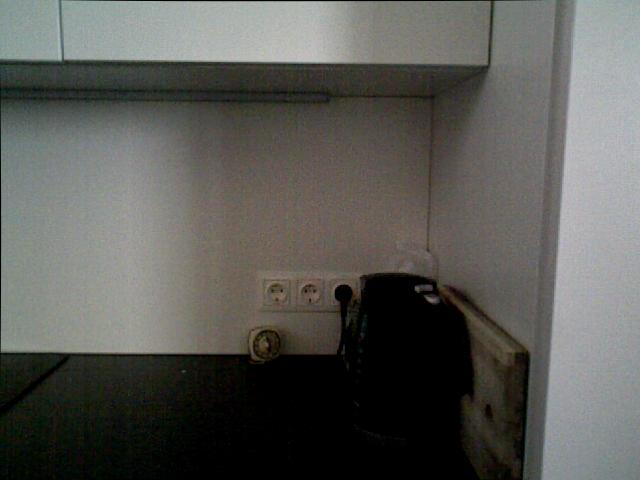giraffe: (247, 323, 284, 367)
